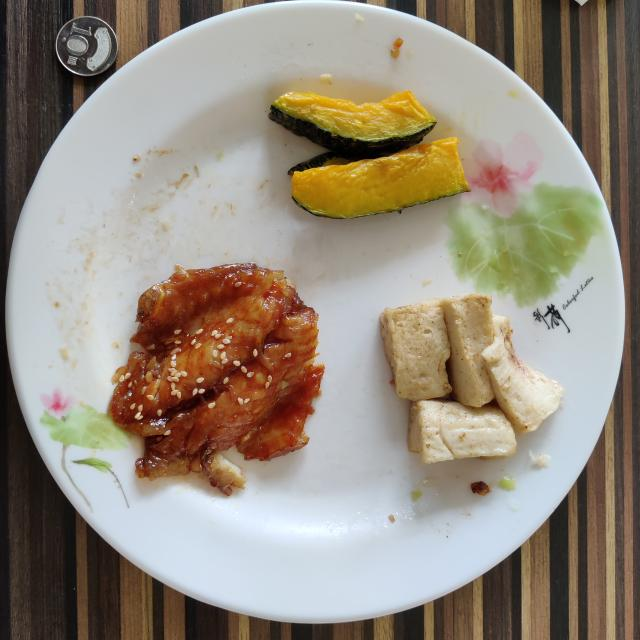Kabayaki sea bream fillet: (109, 264, 324, 495)
coin: (56, 16, 118, 76)
creamy tofu -without sauce-: (380, 294, 564, 464)
pumpkin: (269, 91, 470, 219)
